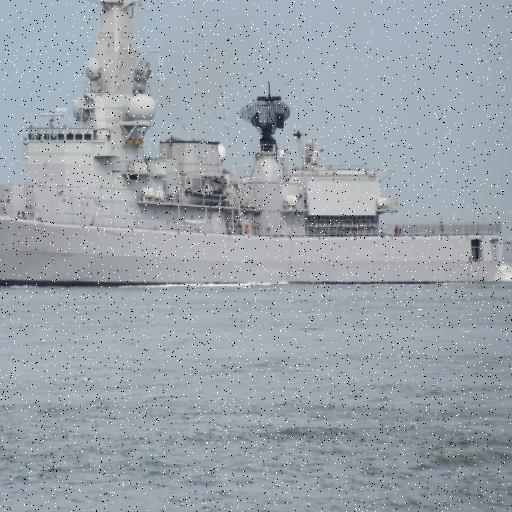Fragata: (1, 1, 510, 297)
